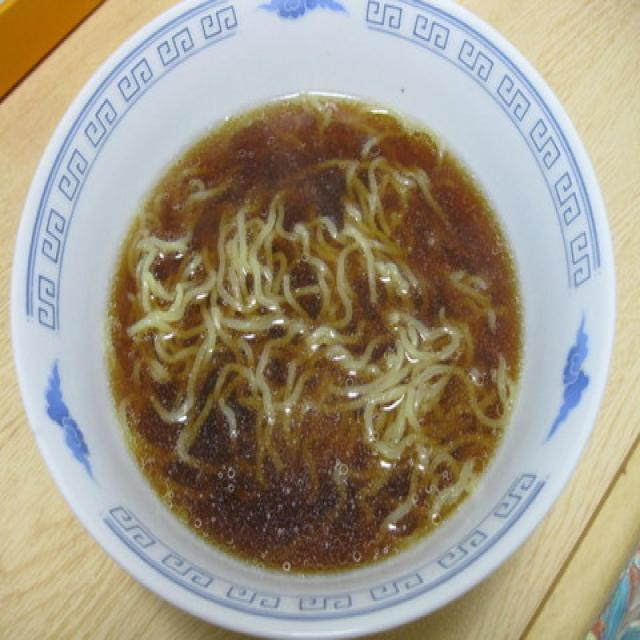面条主食: (8, 0, 616, 640)
